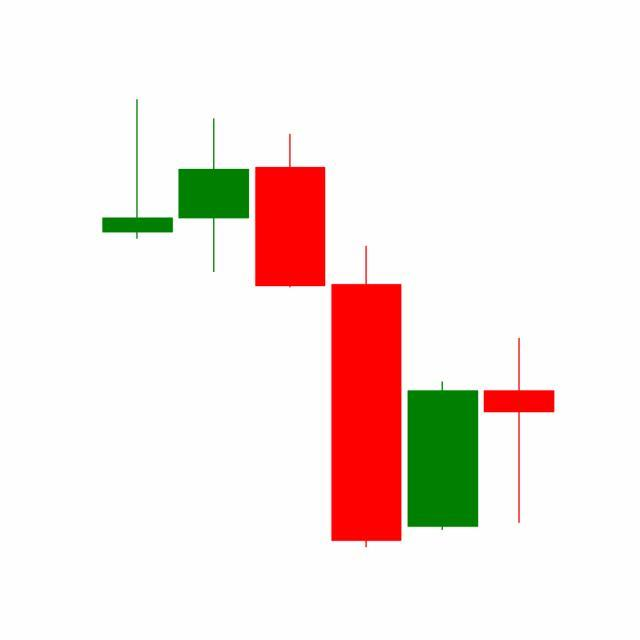Hikkake Pattern: (175, 114, 555, 548)
